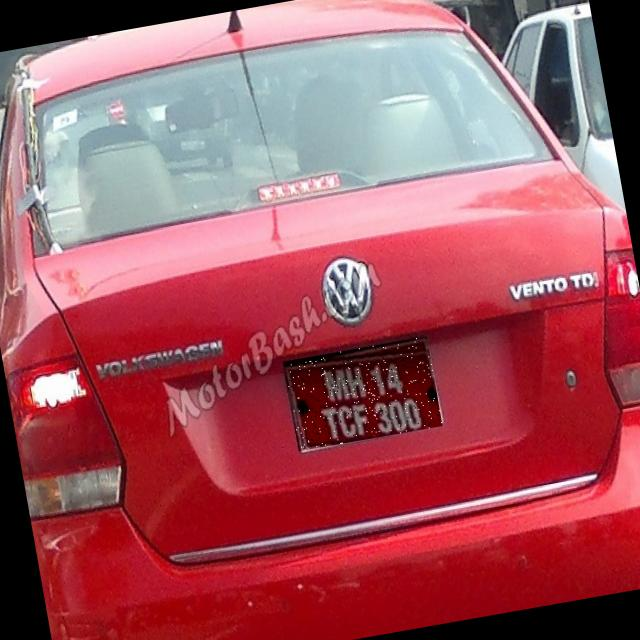Plate: (284, 337, 444, 452)
